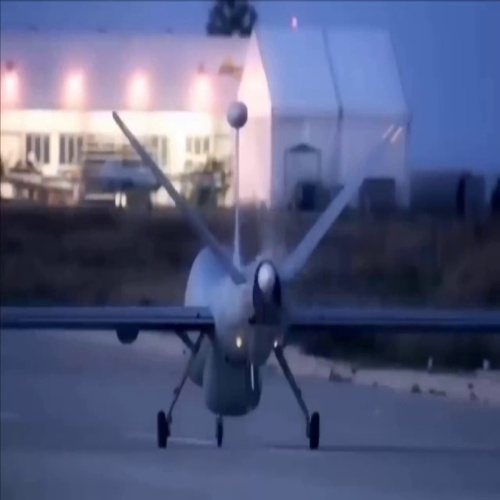uav801: (8, 113, 496, 452)
